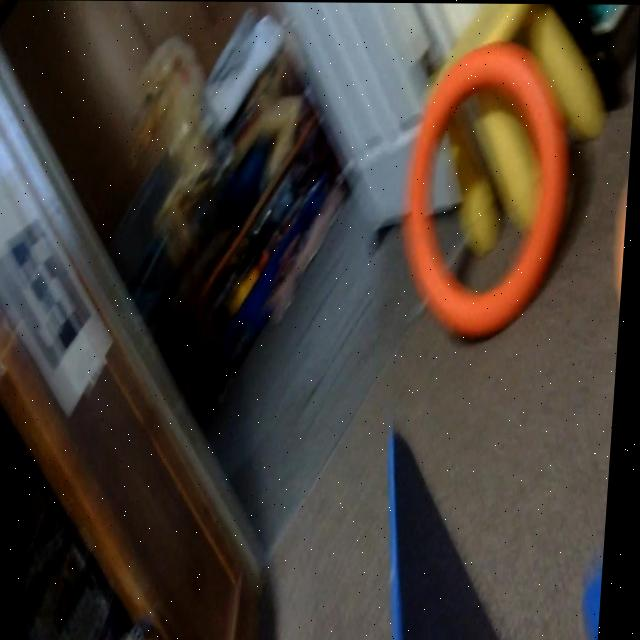note: (404, 35, 577, 344)
